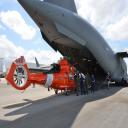helicopter: (6, 55, 85, 97)
